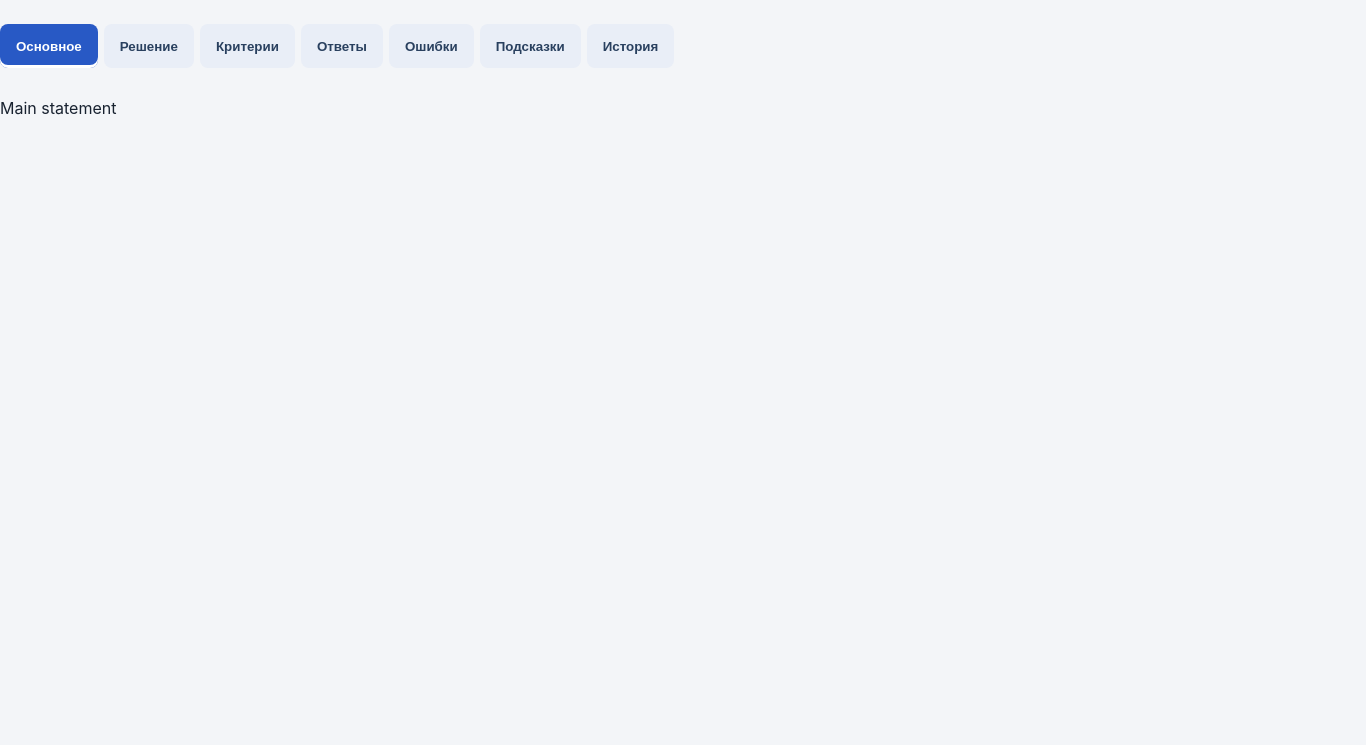
editor › renders existing data and switches tabs without a request
The image size is (1366, 745).
Check: the text "Main statement" is shown, box [0,98,116,118]
Step 1. Click the tab "Решение" → (149, 46), box [104,24,194,68]
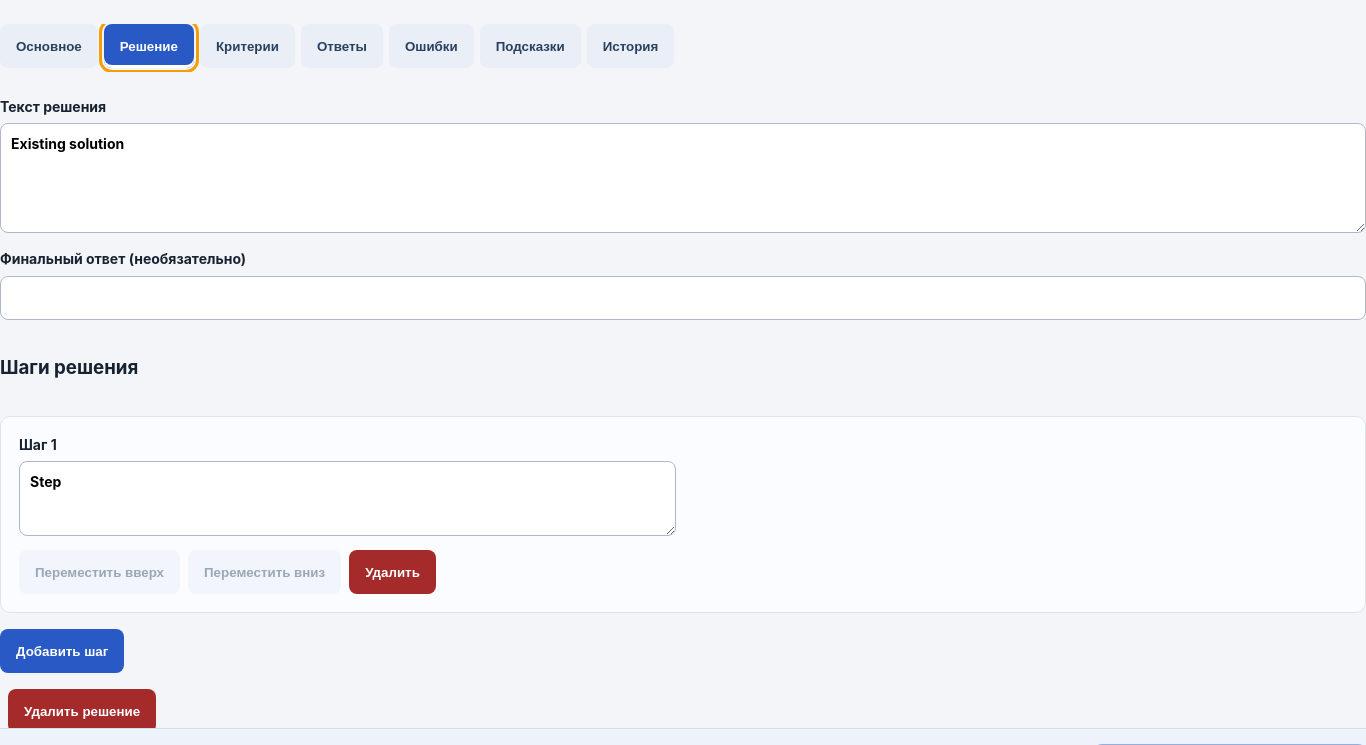
Check: the text box showing "Existing solution" is shown, box [0,123,1365,233]
